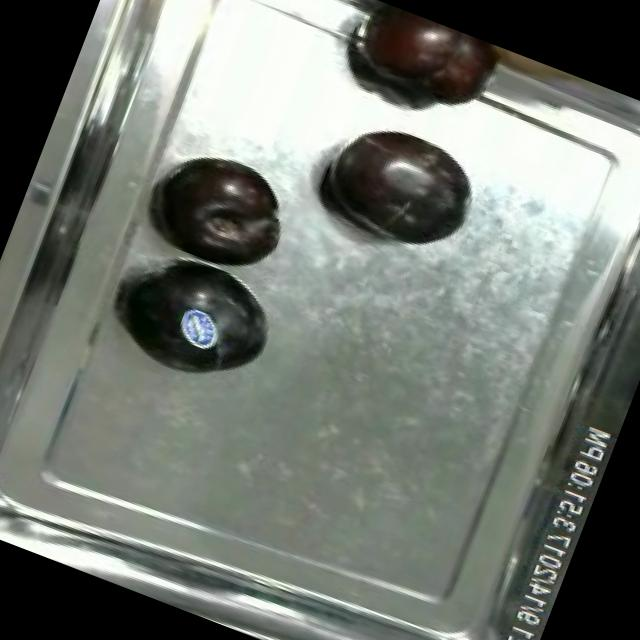Fruit: (302, 96, 500, 272), (106, 238, 295, 408), (321, 0, 518, 133), (144, 137, 304, 286)
